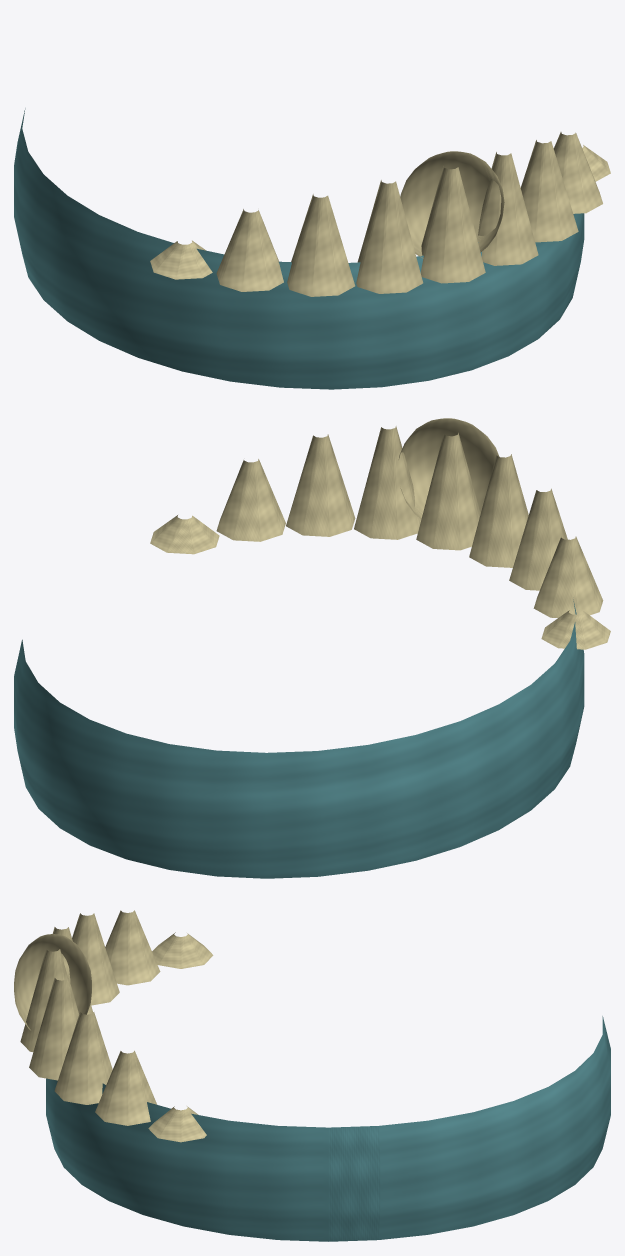
The model's file is luminous_circlet.glb.
3 views of the same model, one above another, from view 1: azimuth 30°, elevation 25°; view 2: azimuth 150°, elevation 25°; view 3: azimuth 270°, elevation 25° (orthographic). The views are drawn at different scales.
Visible parts, largest first — view 1: Luminous Compact Circlet; view 2: Luminous Compact Circlet; view 3: Luminous Compact Circlet.
Boxes of the visible parts, x1=… form: Luminous Compact Circlet: x1=14, y1=108, x2=610, y2=389; Luminous Compact Circlet: x1=14, y1=418, x2=610, y2=878; Luminous Compact Circlet: x1=14, y1=910, x2=610, y2=1241.
Bounding box in the file's own units: 0.2142 × 0.095 × 0.2558.
Materials: 2 (2 with a texture image).
